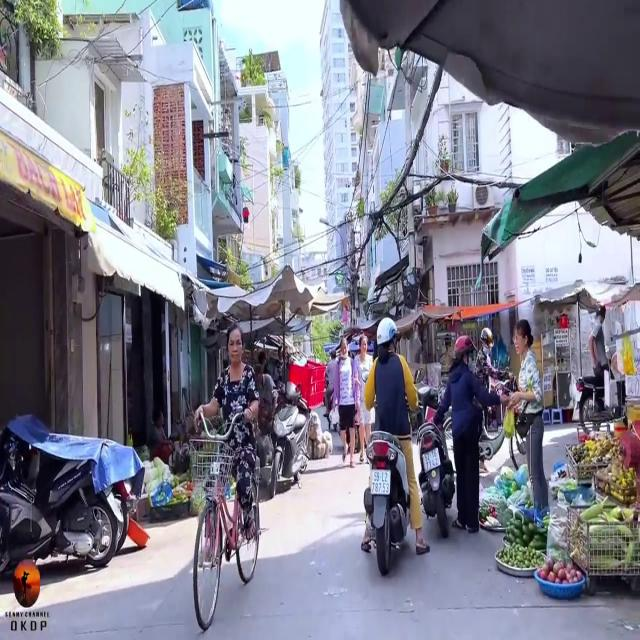bien_trang: (423, 442, 442, 476), (370, 466, 391, 495)
